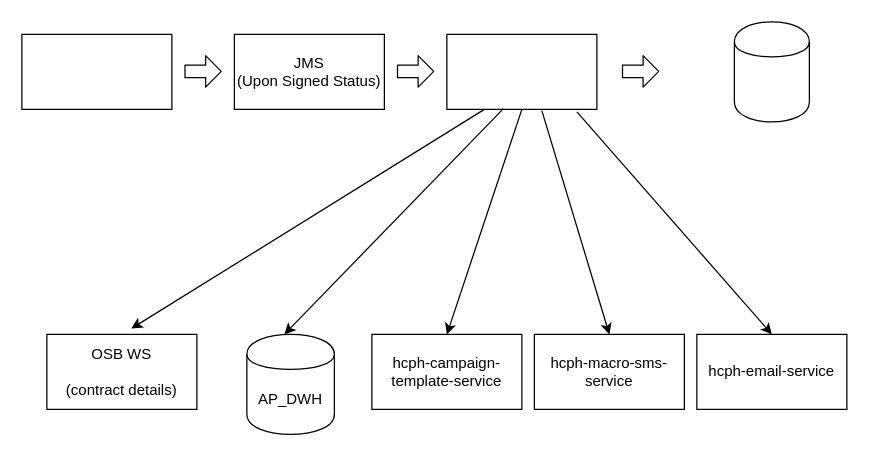
Some shapes in this 869 by 456 pixel diagram are drawn without their labels. Each missing label, with the centre of its shape:
"APP_MSS_EMAIL" goes at [771,71].
"BSL Paperless Contract Creation" goes at [96,71].
"hcph-paperless-email-service" goes at [521,71].
